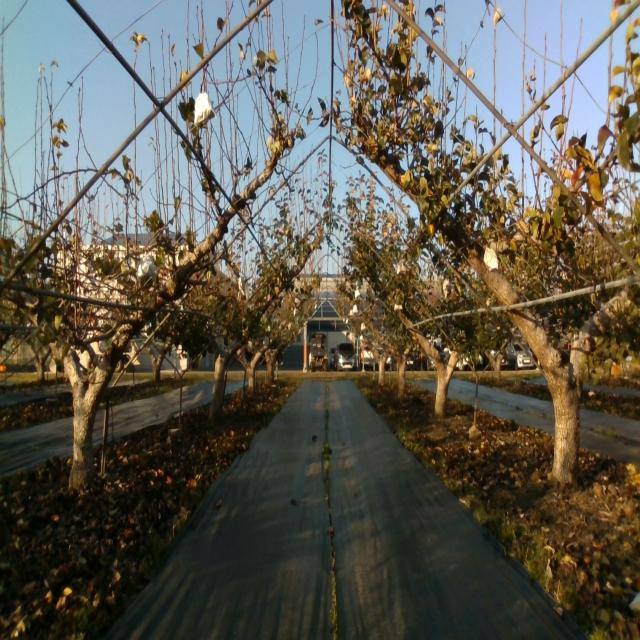pearbags: (194, 94, 216, 129), (483, 244, 498, 272), (138, 252, 154, 278)
